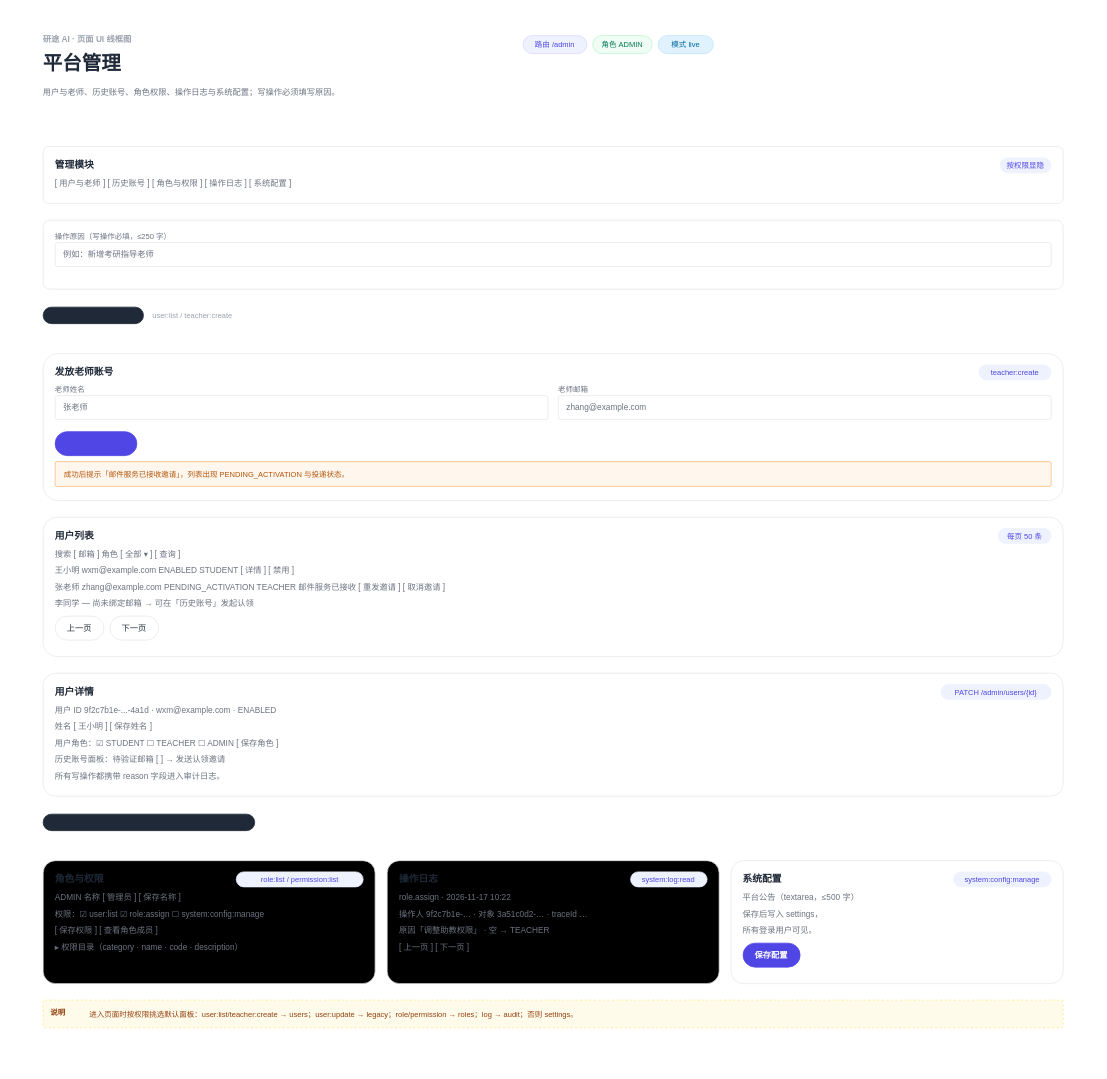
This 1107x1079 diagram has some shape labels left out. The shapes that lost their labels are listed below. From the top down, each one's box as (x1, y1, x2, y2) in pixels, then its label:
(42, 306, 143, 324): 面板 A · 用户与老师
(54, 431, 137, 456): 创建并发送邀请
(42, 813, 255, 831): 面板 B / C / D · 角色权限、操作日志、系统配置
